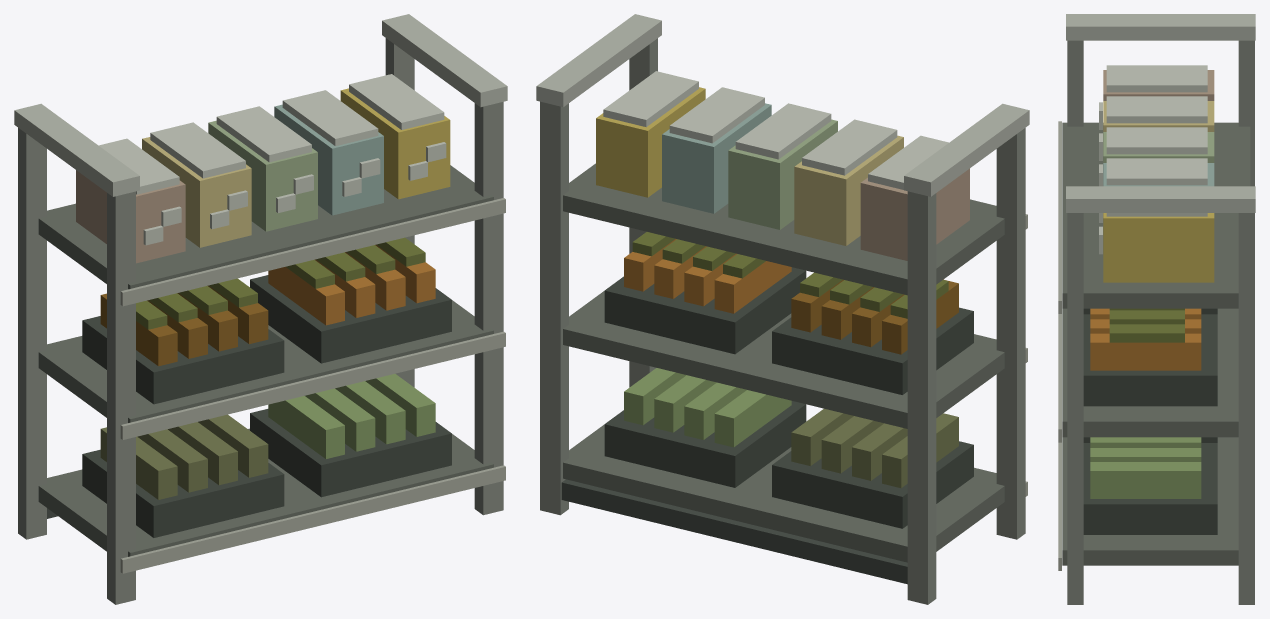
The model's file is CMU3DWeymartShelf3.glb.
3 views of the same model, side by side, from view 1: azimuth 30°, elevation 25°; view 2: azimuth 150°, elevation 25°; view 3: azimuth 270°, elevation 25° (orthographic). The views are drawn at different scales.
Parts seen in each view (by area): view 1: shelf upright (×4), shelf deck (×3), produce tray (×4), row of packaged stock (×16), product carton (×5), shelf pale front lip (×3), folded packet top (×5), top end cap (×2), stock colored cap (×8); view 2: shelf deck (×3), shelf upright (×4), produce tray (×4), product carton (×5), row of packaged stock (×16), folded packet top (×5), top end cap (×2), rear base stretcher, stock colored cap (×7); view 3: shelf deck (×3), shelf upright (×4), produce tray (×2), folded packet top (×5), row of packaged stock (×6), product carton (×5), top end cap (×2), stock colored cap (×2), shelf pale front lip (×3).
Part boxes in pixels (bbox=[...]): shelf upright (×4): bbox=[18, 38, 503, 604]; shelf deck (×3): bbox=[38, 165, 493, 556]; produce tray (×4): bbox=[82, 275, 451, 537]; row of packaged stock (×16): bbox=[100, 244, 435, 499]; product carton (×5): bbox=[76, 88, 450, 263]; shelf pale front lip (×3): bbox=[120, 198, 505, 573]; folded packet top (×5): bbox=[99, 74, 444, 194]; top end cap (×2): bbox=[14, 14, 507, 196]; stock colored cap (×8): bbox=[136, 237, 425, 329]; shelf deck (×3): bbox=[563, 163, 1004, 562]; shelf upright (×4): bbox=[540, 38, 1025, 604]; produce tray (×4): bbox=[604, 267, 973, 528]; product carton (×5): bbox=[596, 87, 969, 260]; row of packaged stock (×16): bbox=[624, 239, 958, 488]; folded packet top (×5): bbox=[603, 71, 948, 189]; top end cap (×2): bbox=[536, 14, 1029, 196]; rear base stretcher: bbox=[561, 479, 907, 584]; stock colored cap (×7): bbox=[632, 232, 903, 311]; shelf deck (×3): bbox=[1062, 122, 1250, 565]; shelf upright (×4): bbox=[1067, 40, 1254, 604]; produce tray (×2): bbox=[1083, 314, 1217, 534]; folded packet top (×5): bbox=[1106, 65, 1207, 216]; row of packaged stock (×6): bbox=[1090, 308, 1201, 498]; product carton (×5): bbox=[1103, 70, 1214, 282]; top end cap (×2): bbox=[1066, 14, 1255, 212]; stock colored cap (×2): bbox=[1109, 310, 1184, 342]; shelf pale front lip (×3): bbox=[1058, 121, 1061, 570].
Size of the model in its own units: 0.966 by 0.9914 by 0.4356.
